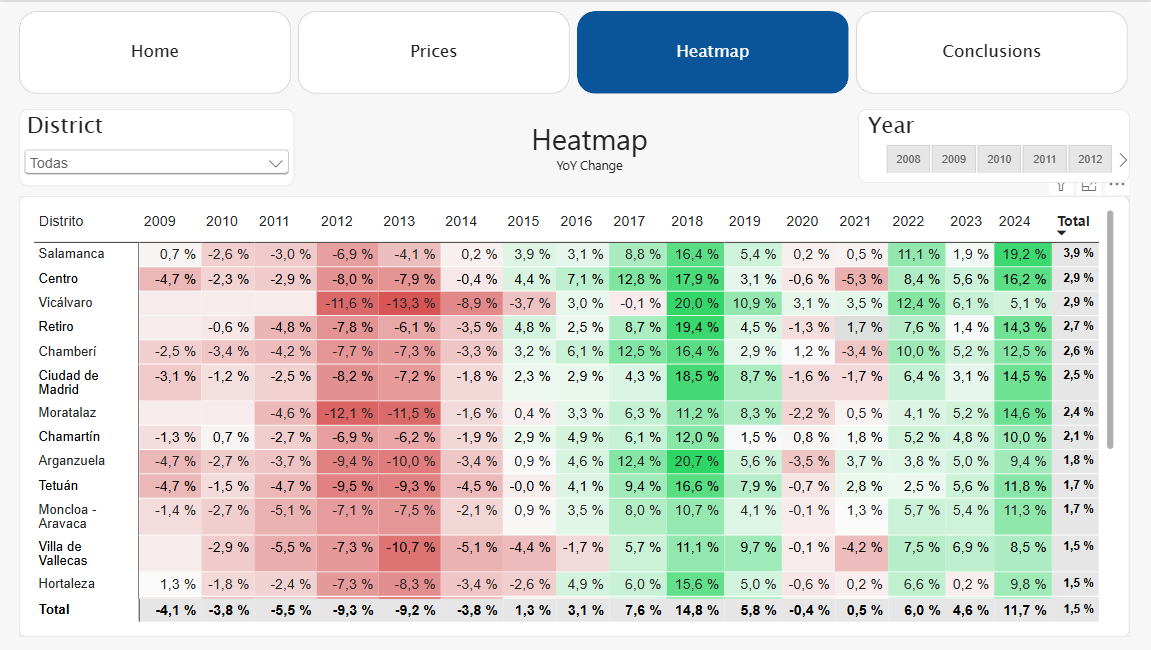

What the dashboard file says about the page in this screenshot:
{"tool":"powerbi","page":{"name":"Heatmap","canvas":[1280,720],"ordinal":2},"visuals":[{"type":"textbox","box":[0,0,1280,83.8],"z":0},{"type":"pivotTable","title":"Heatmap","fields":{"Columns":["DimFecha.Año"],"Rows":["DimDistrito.Distrito"],"Values":["FactPrecios.Variación YoY"]},"box":[21.1,215.6,1234.4,490],"z":1000},{"type":"textbox","box":[400,128.9,510,86.7],"z":2000},{"type":"pageNavigator","box":[21.1,10,1234.4,92.2],"z":3000},{"type":"slicer","fields":{"Values":["DimDistrito.Distrito"]},"box":[21.1,118.9,305.6,85.6],"z":4000},{"type":"slicer","title":"Year","fields":{"Values":["DimFecha.Año"]},"box":[953.3,118.9,302.2,82.2],"z":5000}]}

Visuals, with their boxes in screenshot pixels (x1, y1, x2, y2), scaled from the page's 1280x720 canvas onto the 1151x650 screenshot:
textbox: box=[0, 0, 1150, 76]
"Heatmap" pivotTable: box=[19, 195, 1129, 637]
textbox: box=[360, 116, 818, 195]
pageNavigator: box=[19, 9, 1129, 92]
slicer - DimDistrito.Distrito: box=[19, 107, 294, 185]
"Year" slicer: box=[857, 107, 1129, 182]
